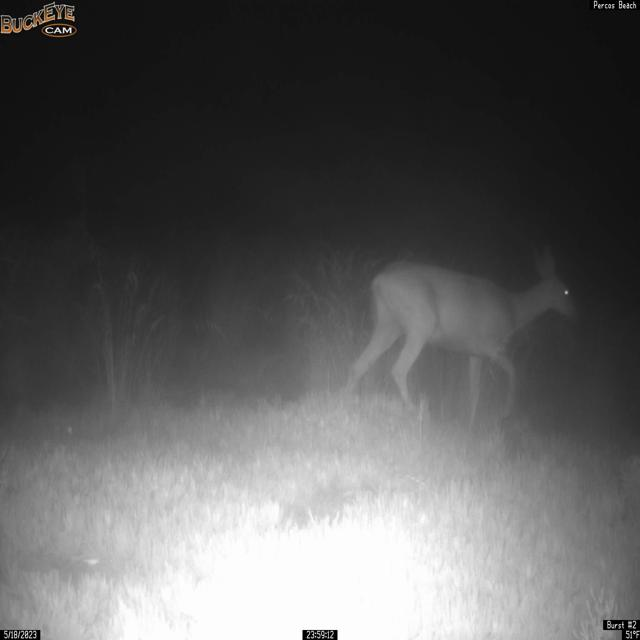deer: (342, 241, 580, 432)
